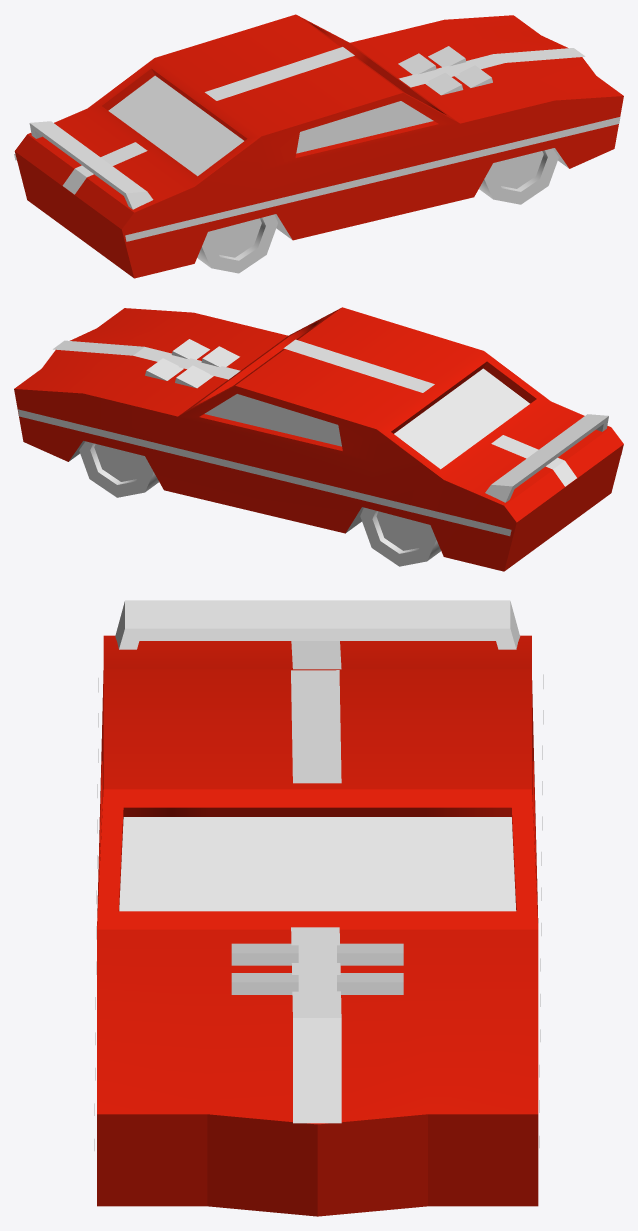
The model's file is SM_Car.fbx.
The picture shows the model from 3 angles, top to bottom: view 1: azimuth 30°, elevation 25°; view 2: azimuth 150°, elevation 25°; view 3: azimuth 270°, elevation 25°; orthographic projection. The views are drawn at different scales.
Visible parts, largest first — view 1: SM_Car.001; view 2: SM_Car.001; view 3: SM_Car.001.
Part boxes in pixels (box(x1,y1,x2,y2)): SM_Car.001: box(14, 14, 623, 278); SM_Car.001: box(14, 307, 623, 571); SM_Car.001: box(94, 600, 543, 1216).
Bounding box in the file's own units: 5.27 × 1.45 × 2.
